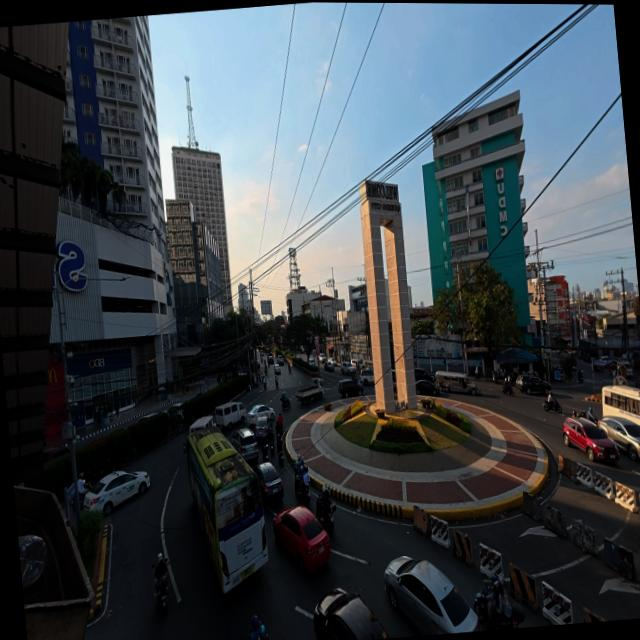Jeepneys: (434, 371, 479, 395)
bus: (186, 427, 267, 593), (601, 386, 639, 424)
car: (383, 556, 479, 635), (272, 505, 330, 572), (313, 588, 388, 639), (83, 471, 149, 515), (562, 417, 618, 463), (598, 417, 639, 461), (253, 463, 283, 504), (231, 427, 258, 462), (515, 376, 550, 395), (247, 405, 274, 424), (337, 380, 362, 398), (253, 417, 272, 440), (42, 446, 68, 461), (415, 380, 438, 396), (163, 402, 183, 420), (413, 368, 435, 383), (358, 369, 373, 385), (616, 363, 632, 378), (136, 412, 157, 423), (340, 362, 354, 375), (322, 360, 334, 372), (350, 360, 361, 370), (317, 353, 326, 363), (307, 356, 315, 366), (327, 358, 336, 366), (273, 364, 280, 374), (276, 355, 283, 364), (267, 355, 273, 365), (300, 346, 304, 352)
motorcycle: (473, 584, 524, 630), (315, 494, 335, 534), (294, 476, 309, 506), (542, 400, 561, 413), (260, 439, 270, 462), (276, 436, 283, 464), (501, 385, 513, 396), (268, 432, 274, 454), (571, 409, 585, 418), (280, 397, 290, 409), (576, 370, 584, 384), (262, 378, 267, 390), (274, 377, 277, 388), (287, 364, 290, 372), (245, 634, 249, 639), (152, 565, 154, 571)
trucks: (294, 378, 323, 403)
vans: (435, 371, 479, 395), (214, 402, 245, 429), (189, 416, 214, 433)
